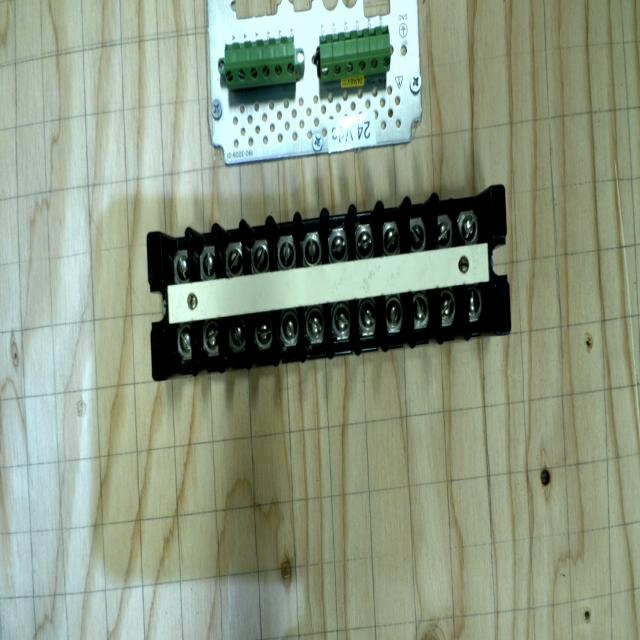Flathead_Block: (134, 186, 523, 380)
Terminal_1: (315, 26, 395, 81), (222, 37, 298, 86)
